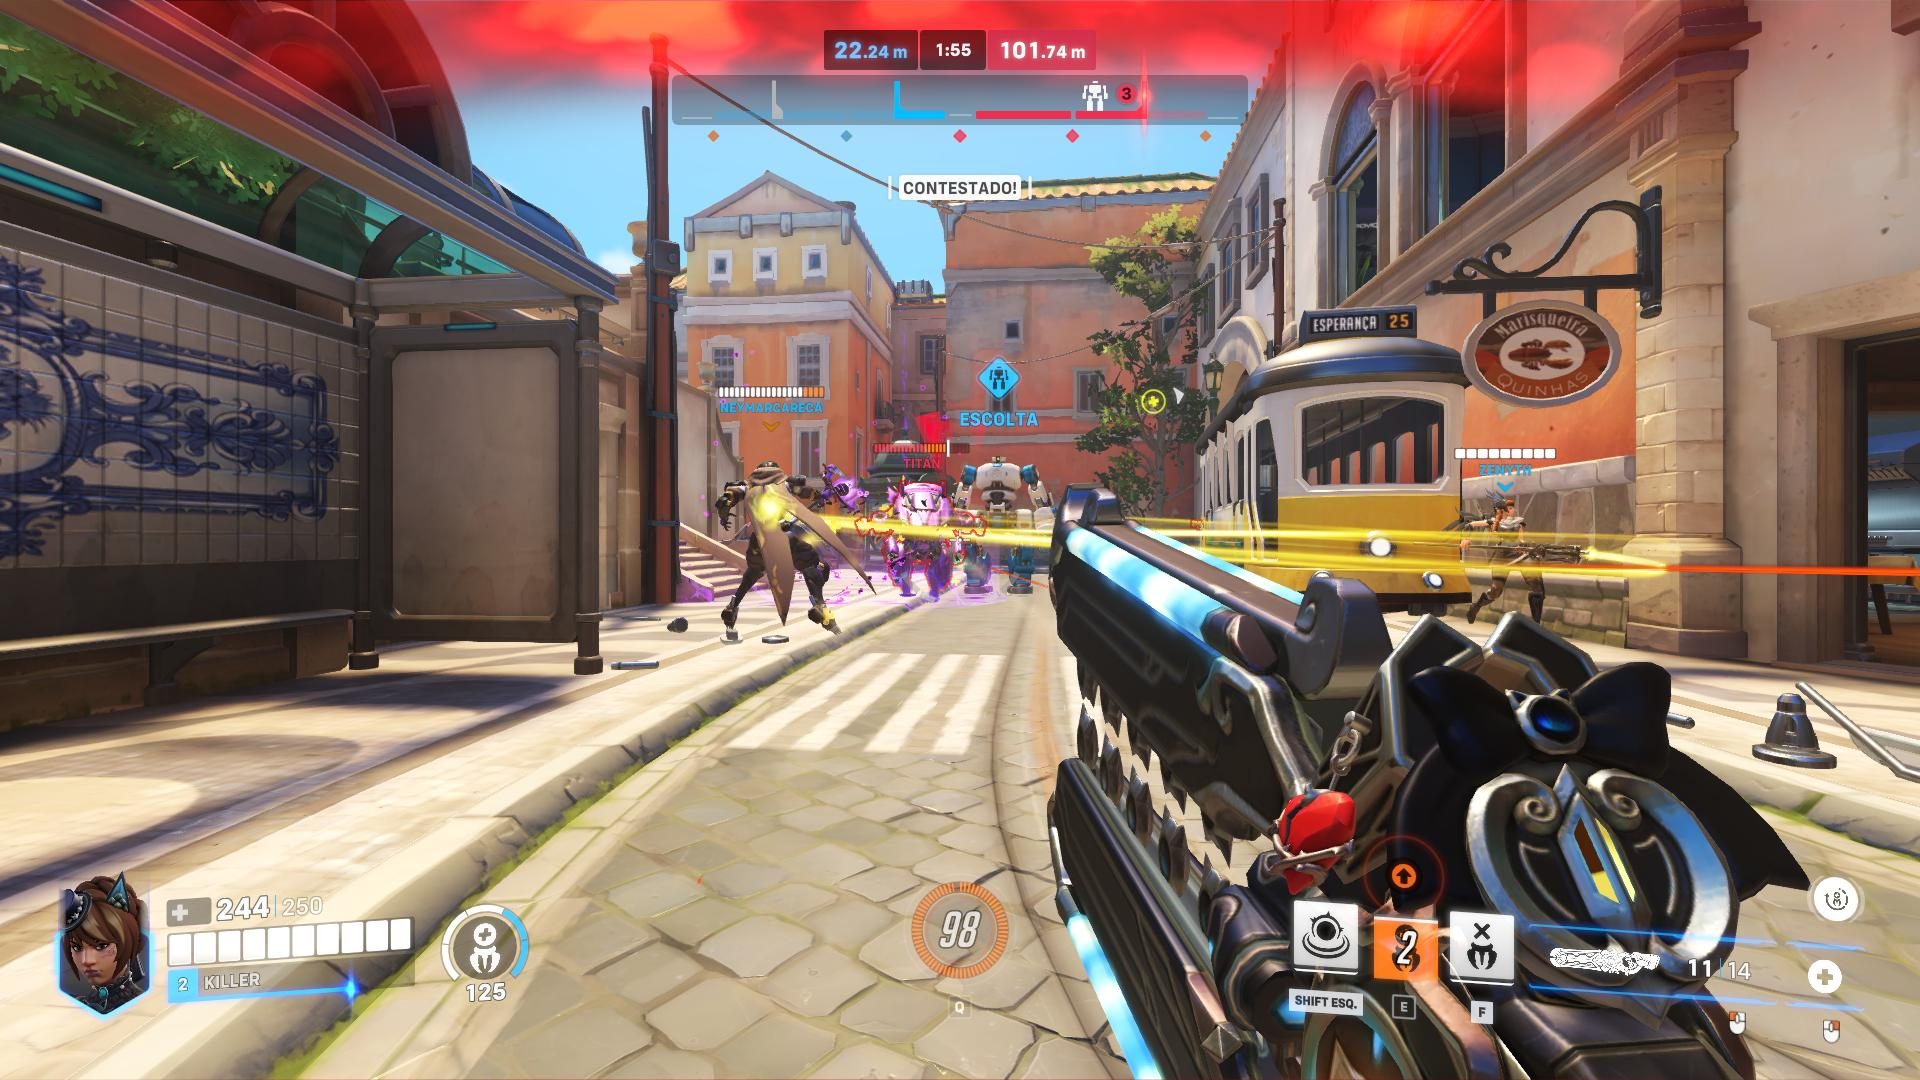enemy: (882, 480, 953, 588)
